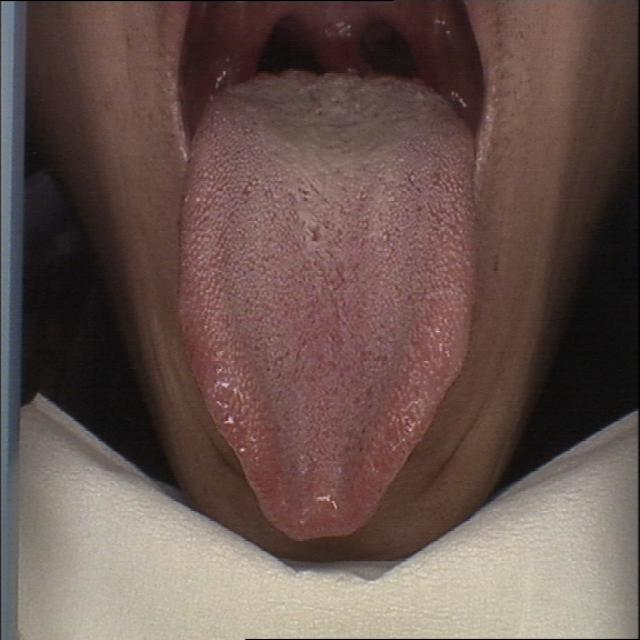tongue: (168, 67, 484, 551)
